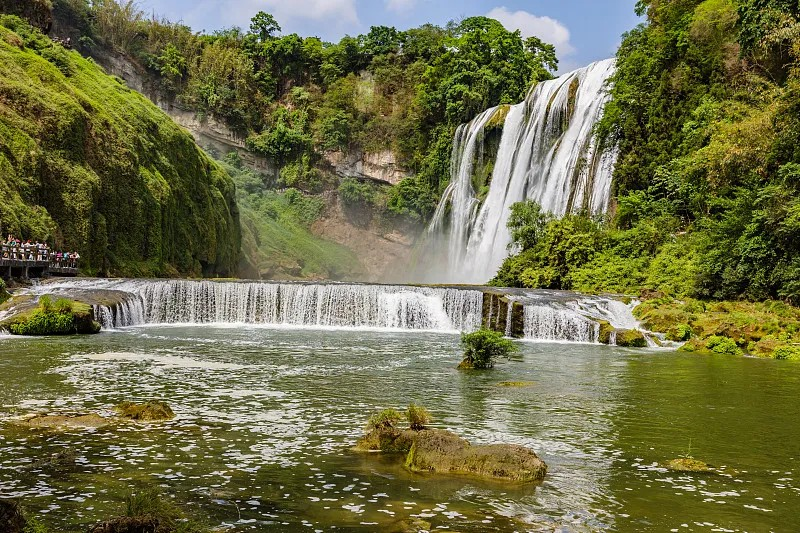Huangguoshu: (429, 59, 618, 284)
